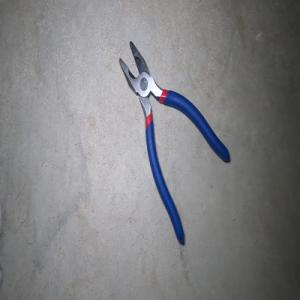Pliers: (118, 40, 230, 245)
